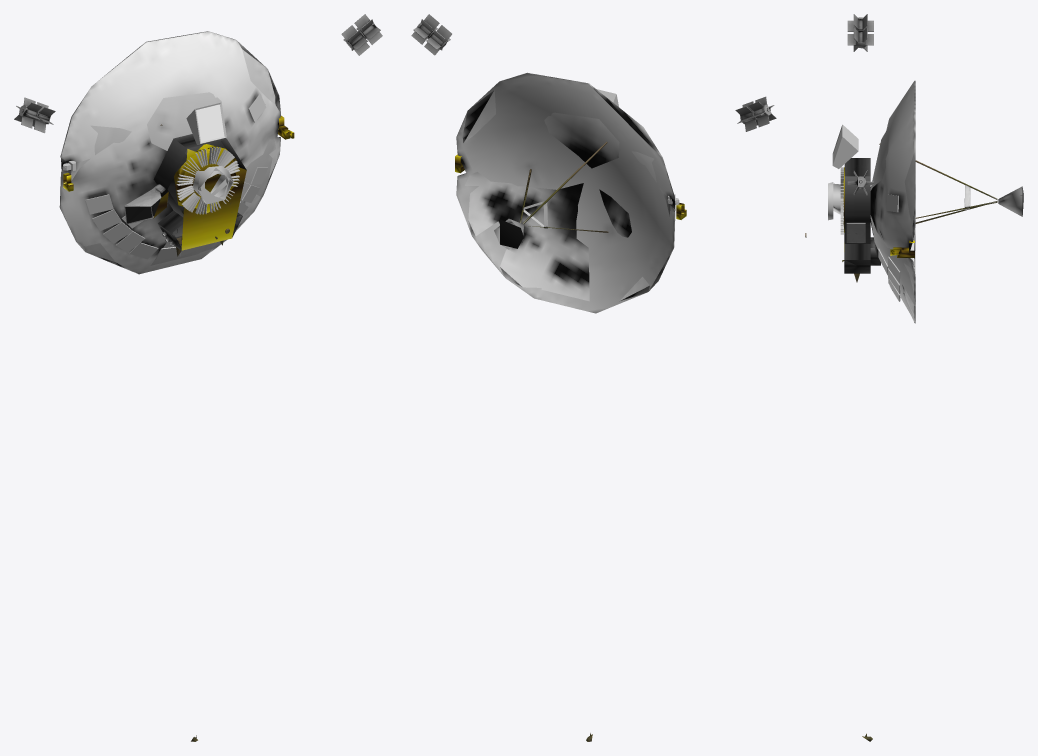
File: space-pioneer-10.glb
3 renders of one model, left to right at view 1: azimuth 30°, elevation 25°; view 2: azimuth 150°, elevation 25°; view 3: azimuth 270°, elevation 25°, orthographic. The views are drawn at different scales.
Parts seen in each view (by area): view 1: AO_dish, Norm_silver, Foil_gold, Foil_silver, AO_rtg, Foil_trans; view 2: AO_dish, AO_rtg; view 3: AO_dish, Foil_silver, Norm_silver, AO_rtg, Tex_02, Tex_01.
Boxes of the visible parts, x1,y1,x2,y2 form: AO_dish: (59, 31, 280, 274); Norm_silver: (62, 93, 267, 259); Foil_gold: (63, 115, 294, 250); Foil_silver: (153, 134, 246, 250); AO_rtg: (14, 14, 382, 132); Foil_trans: (196, 104, 224, 141); AO_dish: (456, 72, 675, 313); AO_rtg: (411, 14, 776, 131); AO_dish: (870, 80, 1022, 323); Foil_silver: (844, 158, 880, 273); Norm_silver: (828, 124, 900, 301); AO_rtg: (847, 14, 873, 195); Tex_02: (805, 143, 997, 741); Tex_01: (846, 223, 865, 242).
Bounding box in the file's own units: 4.52 × 8.21 × 2.5.
10 materials, 8 textured.
